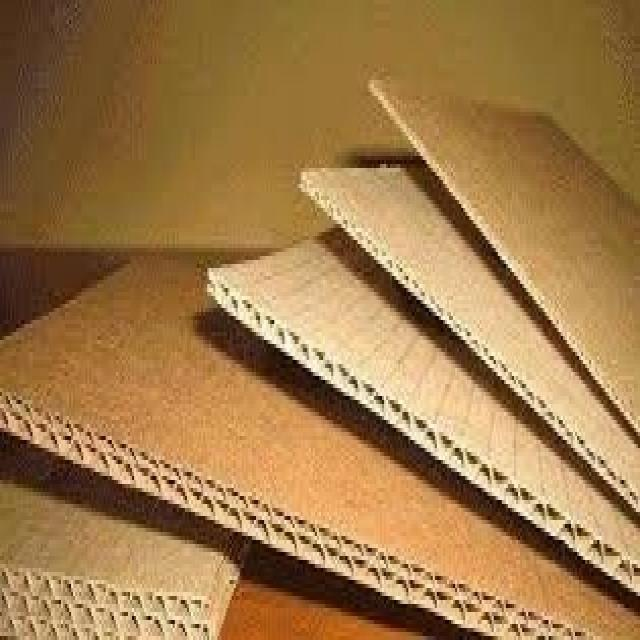cardboard paper: (0, 260, 639, 639), (208, 241, 639, 579), (301, 169, 639, 511), (371, 81, 639, 433), (0, 480, 239, 639)
